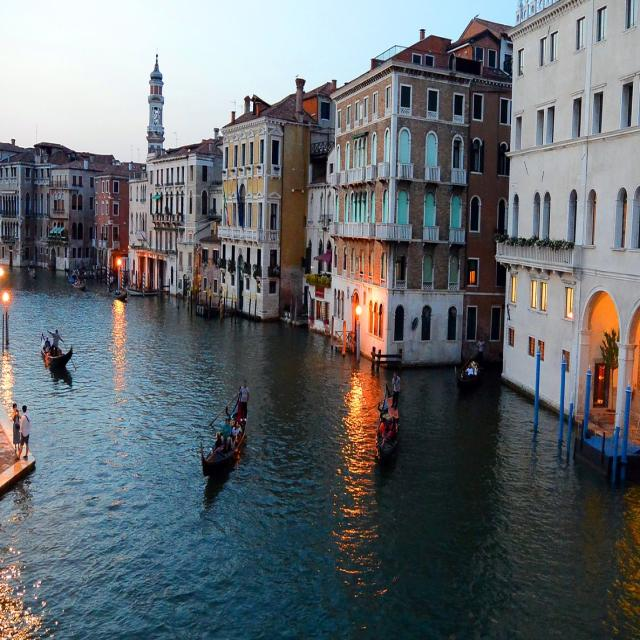boat: (191, 364, 269, 512), (370, 368, 418, 486), (34, 313, 82, 409)
